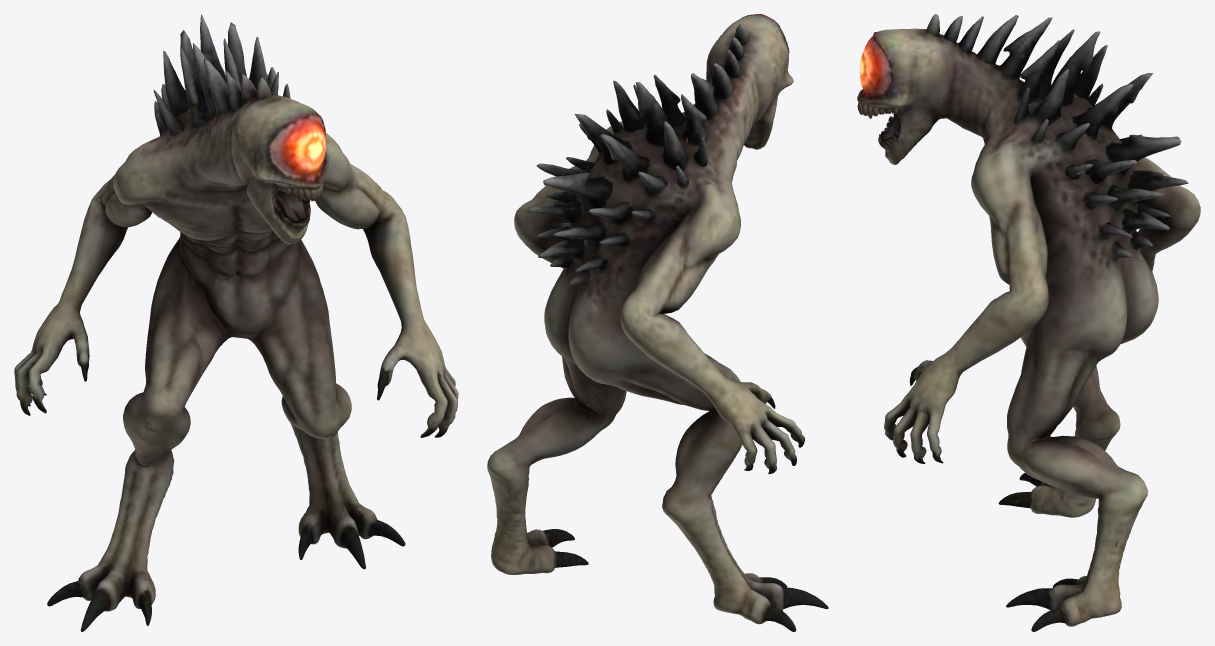
The model's file is MZ4250 - Nothic_2 2025.glb.
3 renders of one model, left to right at view 1: azimuth 30°, elevation 25°; view 2: azimuth 150°, elevation 25°; view 3: azimuth 270°, elevation 25°, orthographic. The views are drawn at different scales.
Visible parts, largest first — view 1: Body.002; view 2: Body.002; view 3: Body.002.
Part boxes in pixels (x1,y1,x2,y2): Body.002: (14, 14, 458, 631); Body.002: (487, 14, 828, 631); Body.002: (857, 14, 1200, 631).
Size of the model in its own units: 48.6 by 74.76 by 43.99.
Materials: 1 (1 with a texture image).
